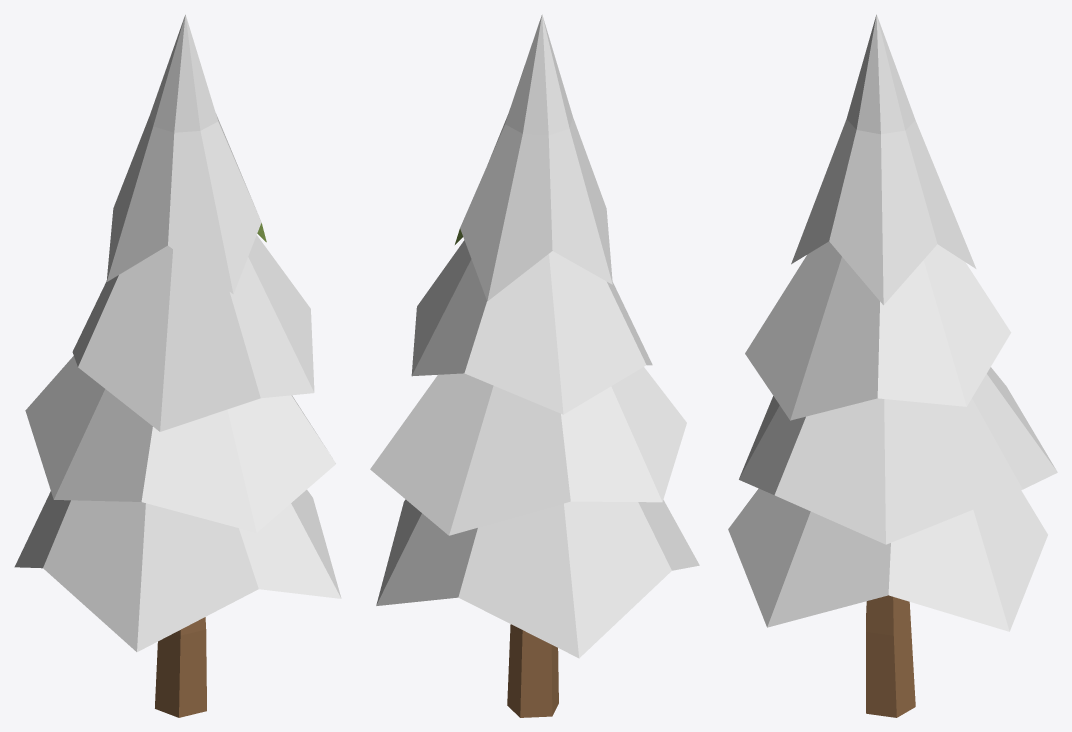
The model's file is Pine_Tree_m_Snow_02_LOD.fbx.
3 views of the same model, side by side, from view 1: azimuth 30°, elevation 25°; view 2: azimuth 150°, elevation 25°; view 3: azimuth 270°, elevation 25° (orthographic).
Visible parts, largest first — view 1: Pine_Tree_m_Snow_02_LOD0; view 2: Pine_Tree_m_Snow_02_LOD0; view 3: Pine_Tree_m_Snow_02_LOD0.
Part boxes in pixels (x1=…): Pine_Tree_m_Snow_02_LOD0: x1=14, y1=14, x2=341, y2=717; Pine_Tree_m_Snow_02_LOD0: x1=370, y1=14, x2=699, y2=717; Pine_Tree_m_Snow_02_LOD0: x1=728, y1=14, x2=1057, y2=717.
Size of what is drawn, in the model's own units: 430 by 1059 by 457.
